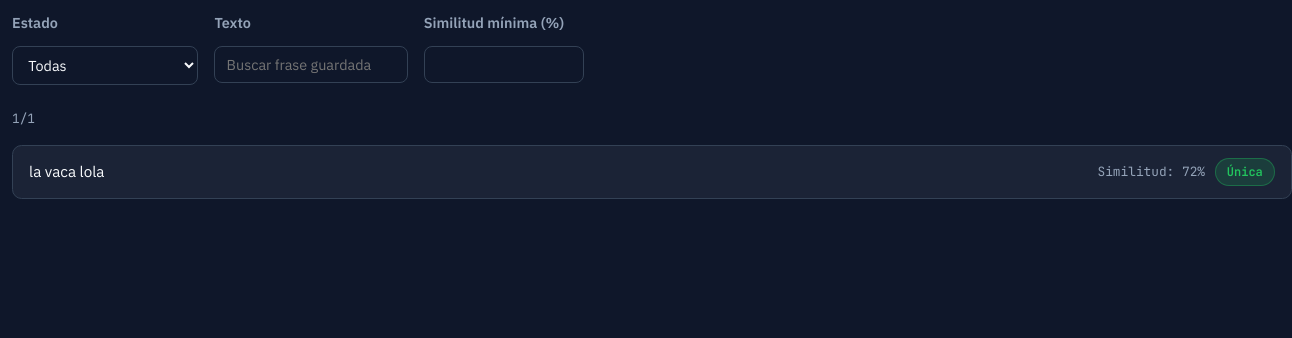
Scenario: PhraseList › compare with the matched phrase › fetches and shows both phrases when the score text is clicked
Click the button named "Comparar" at (1151, 172), box [1098, 162, 1205, 181]
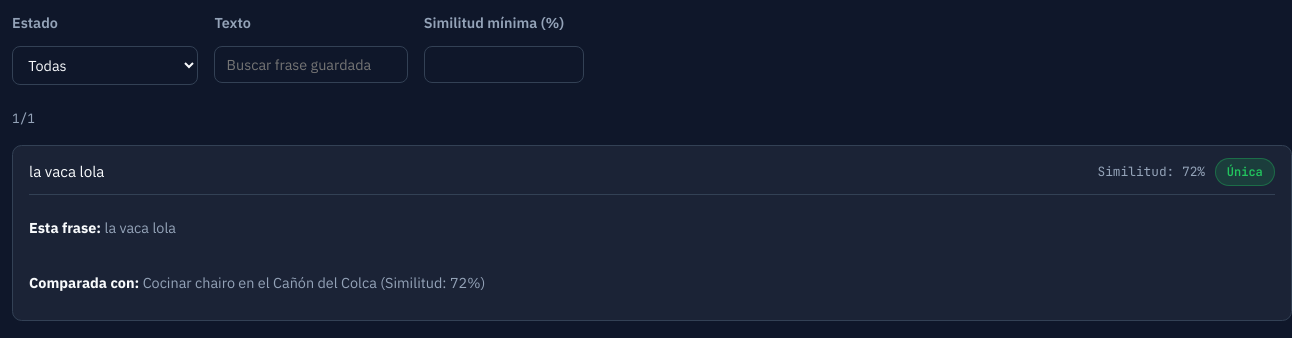
Expected: the text "la vaca lola" in the row of "Única" is shown, [29, 161, 104, 181]
Now the text "Cocinar chairo en el Cañón del Colca" is shown, box [143, 273, 377, 292]
